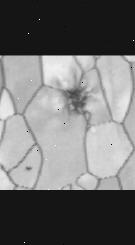good_void: (60, 74, 92, 118), (24, 159, 35, 172)
